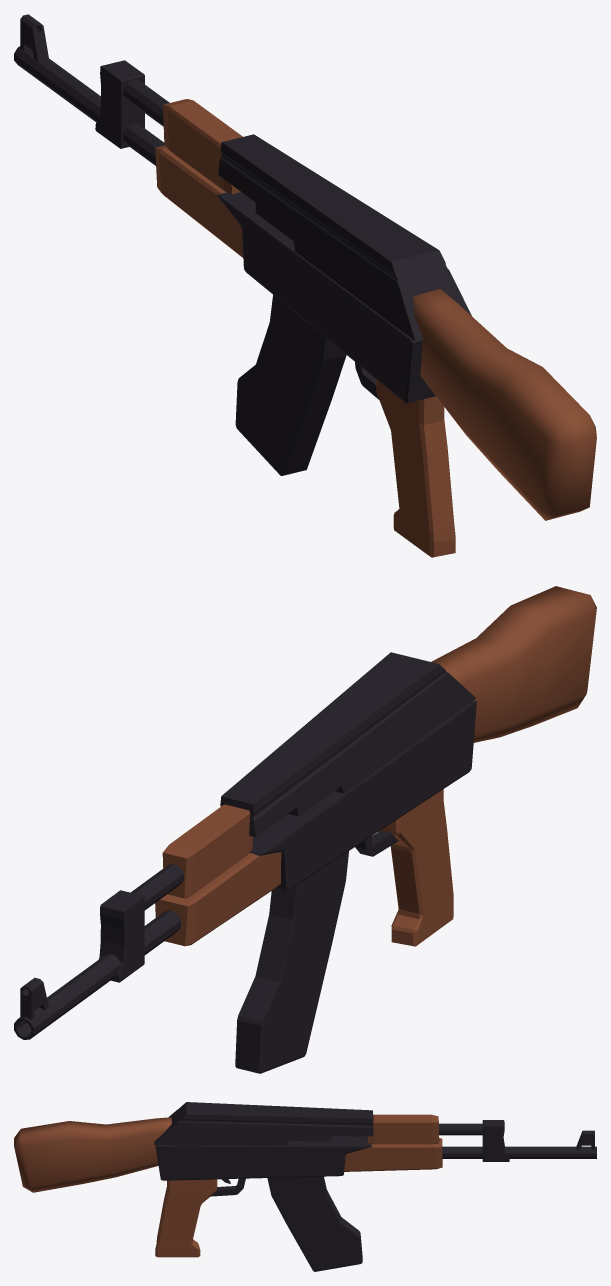
File: StockedAK.fbx
3 views of the same model, one above another, from view 1: azimuth 30°, elevation 25°; view 2: azimuth 150°, elevation 25°; view 3: azimuth 270°, elevation 25° (orthographic). The views are drawn at different scales.
Visible parts, largest first — view 1: Stock, tOP OF MAIN BODY.001, Main Body.001, magazine???.001, Handle doodad.001, bottom woddy bit.001, topp woddy bit.002, nozzle.001, nozzler connecter.001, not nozzle but nozzle.001, Nozzle hat.001; view 2: tOP OF MAIN BODY.001, Stock, magazine???.001, Main Body.001, Handle doodad.001, bottom woddy bit.001, topp woddy bit.002, nozzle.001, nozzler connecter.001, not nozzle but nozzle.001, Nozzle hat.001, Shooty thing cover thing.001; view 3: Stock, tOP OF MAIN BODY.001, Main Body.001, magazine???.001, Handle doodad.001, bottom woddy bit.001, topp woddy bit.002, nozzle.001, nozzler connecter.001, not nozzle but nozzle.001, Shooty thing cover thing.001, Nozzle hat.001.
Part boxes in pixels (x1,y1,x2,y2): Stock: [413, 289, 596, 520]; tOP OF MAIN BODY.001: [218, 134, 471, 341]; Main Body.001: [217, 192, 435, 403]; magazine???.001: [235, 295, 346, 475]; Handle doodad.001: [376, 379, 455, 557]; bottom woddy bit.001: [155, 145, 243, 257]; topp woddy bit.002: [163, 99, 242, 194]; nozzle.001: [14, 46, 164, 165]; nozzler connecter.001: [95, 60, 144, 148]; not nozzle but nozzle.001: [123, 79, 169, 126]; Nozzle hat.001: [20, 14, 48, 60]; tOP OF MAIN BODY.001: [220, 652, 475, 837]; Stock: [431, 586, 596, 742]; magazine???.001: [235, 851, 348, 1073]; Main Body.001: [249, 700, 476, 890]; Handle doodad.001: [378, 789, 453, 946]; bottom woddy bit.001: [155, 852, 281, 946]; topp woddy bit.002: [162, 804, 252, 898]; nozzle.001: [14, 910, 180, 1039]; nozzler connecter.001: [98, 890, 144, 982]; not nozzle but nozzle.001: [131, 864, 183, 910]; Nozzle hat.001: [20, 977, 48, 1019]; Shooty thing cover thing.001: [355, 830, 398, 856]; Stock: [14, 1117, 171, 1192]; tOP OF MAIN BODY.001: [154, 1102, 373, 1145]; Main Body.001: [155, 1136, 371, 1180]; magazine???.001: [267, 1176, 362, 1271]; Handle doodad.001: [155, 1179, 217, 1257]; bottom woddy bit.001: [344, 1138, 442, 1171]; topp woddy bit.002: [368, 1114, 439, 1144]; nozzle.001: [442, 1146, 596, 1158]; nozzler connecter.001: [482, 1120, 509, 1161]; not nozzle but nozzle.001: [439, 1123, 482, 1135]; Shooty thing cover thing.001: [211, 1178, 245, 1196]; Nozzle hat.001: [576, 1130, 594, 1149].
Bounding box in the file's own units: 6.57 × 29.16 × 95.84.
